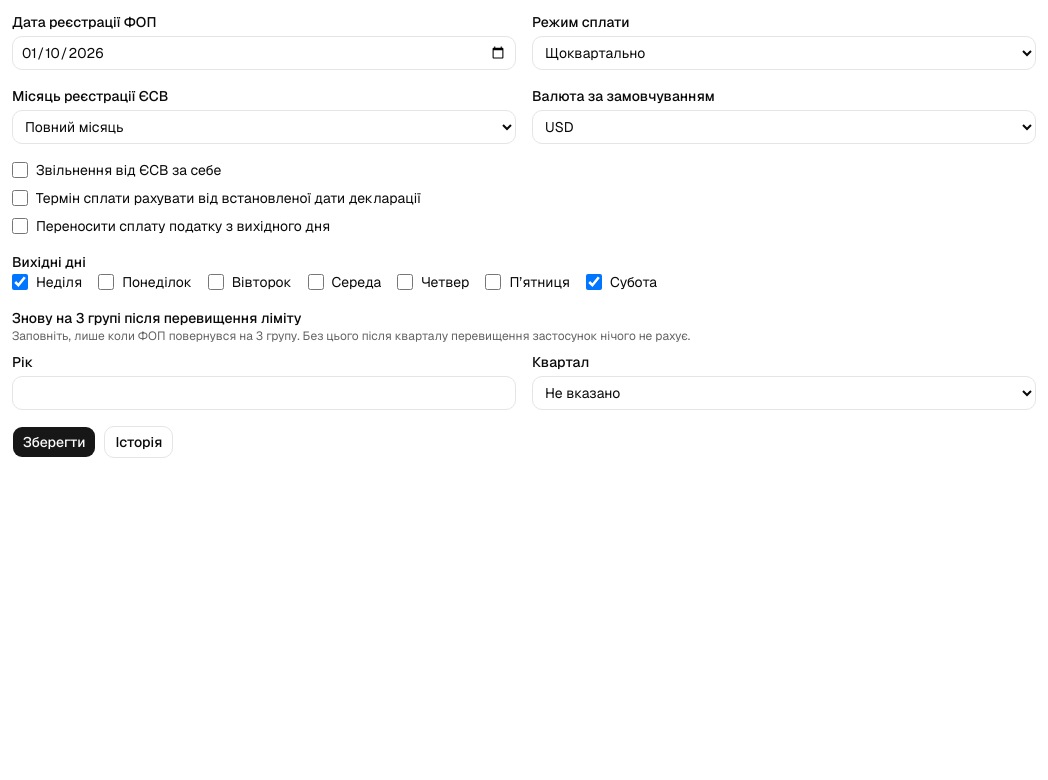
Test: FopSettingsForm rejection › words a registration date after the group 3 receipt by its code, in the owner's language
Click the button "Зберегти" at (54, 442), box [12, 426, 96, 458]
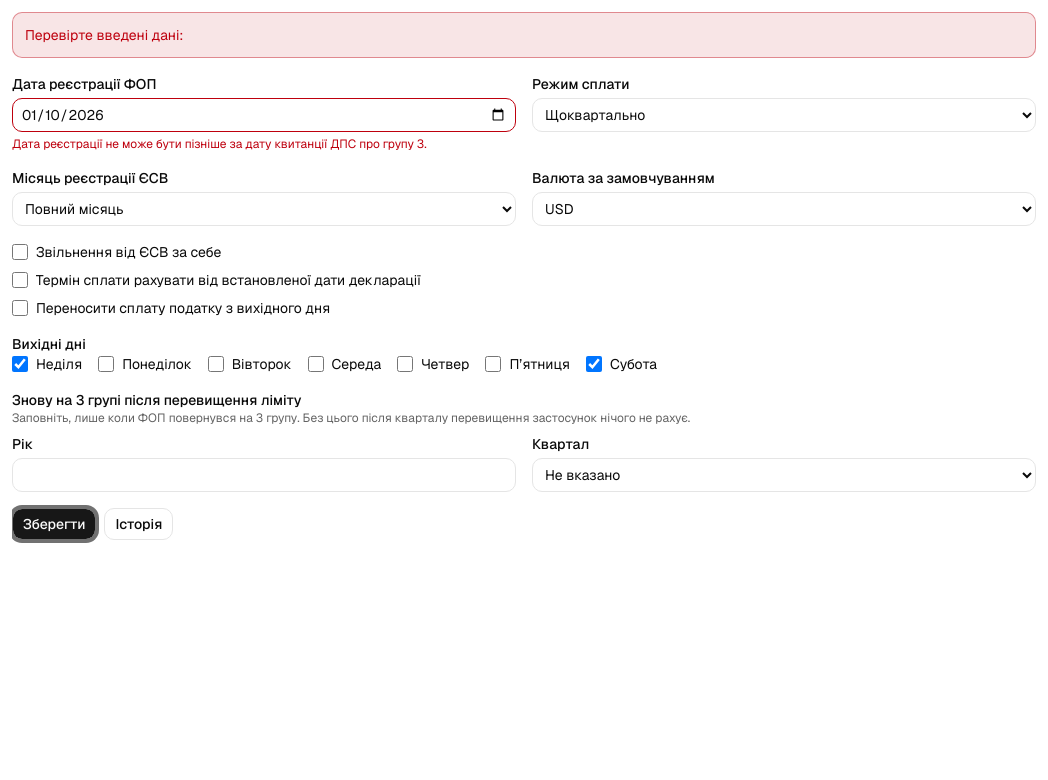
Expected: the text "Дата реєстрації не може бути пізніше за дату квитанції ДПС про групу 3." is shown, [12, 136, 427, 152]
Expected: the text "Перевірте введені дані:" is shown, [12, 12, 1036, 58]
